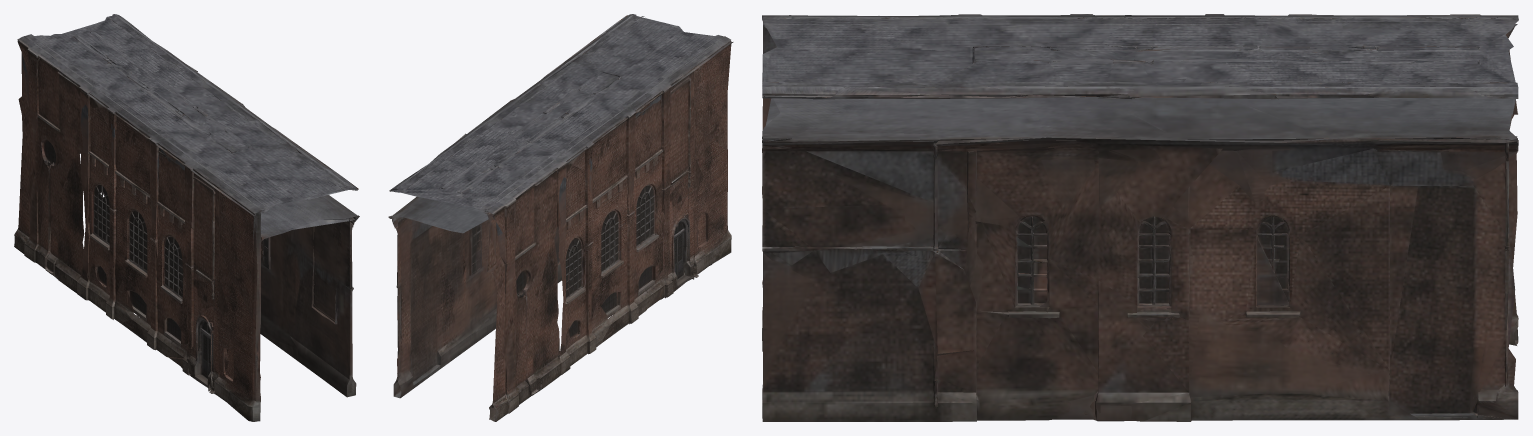
The model's file is winding_engine_house__alt-mi3d.glb.
3 views of the same model, side by side, from view 1: azimuth 30°, elevation 25°; view 2: azimuth 150°, elevation 25°; view 3: azimuth 270°, elevation 25° (orthographic). The views are drawn at different scales.
Size of the model in its own units: 0.5144 by 0.9333 by 1.9.
1 material, 1 textured.
